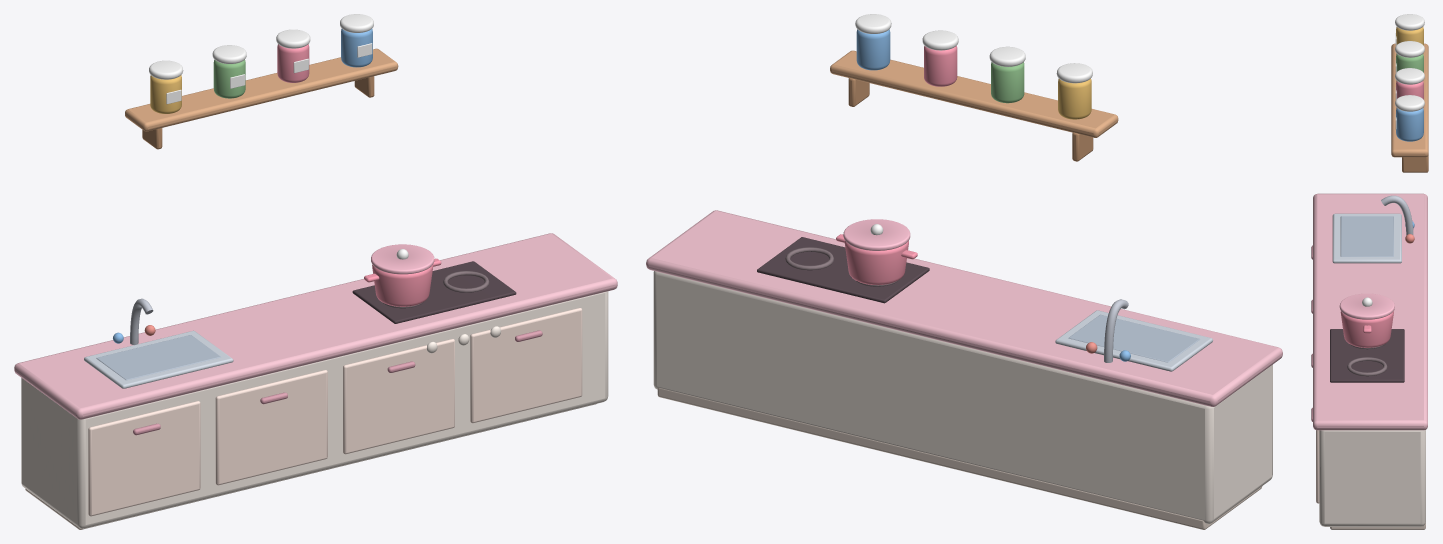
File: kitchen.glb
3 views of the same model, side by side, from view 1: azimuth 30°, elevation 25°; view 2: azimuth 150°, elevation 25°; view 3: azimuth 270°, elevation 25° (orthographic). The views are drawn at different scales.
Parts seen in each view (by area): view 1: cffeae2, worktop, cfff6ef, shelf, hob, cffffff, sink, cff9fb5, sink_rim, lid, c8fc1f0, jar_1 (+2 smaller); view 2: cfff6ef, worktop, shelf, kick, hob, cff9fb5, sink, cffffff, sink_rim, lid, c8fc1f0, jar_1 (+2 smaller); view 3: worktop, cfff6ef, hob, sink, cffffff, cff9fb5, shelf, sink_rim, lid, c8fc1f0, faucet, cc99a74 (+5 smaller).
Part boxes in pixels (x1,y1,x2,y2): cffeae2: (88,307,582,516); worktop: (14,233,617,419); cfff6ef: (21,291,608,528); shelf: (125,48,398,131); hob: (352,261,516,323); cffffff: (149,14,408,259); sink: (96,335,220,380); cff9fb5: (277,44,441,306); sink_rim: (84,330,233,388); lid: (371,244,434,274); c8fc1f0: (113,28,372,343); jar_1: (213,59,245,98); cfff6ef: (653,271,1272,523); worktop: (646,210,1282,406); shelf: (830,50,1118,137); kick: (657,388,1262,529); hob: (757,237,929,303); cff9fb5: (836,46,957,285); sink: (1068,314,1199,362); cffffff: (855,14,1092,235); sink_rim: (1055,310,1212,371); lid: (843,219,910,250); c8fc1f0: (856,29,1130,361); jar_1: (991,62,1024,103); worktop: (1313,193,1427,430); cfff6ef: (1319,430,1425,526); hob: (1330,329,1404,382); sink: (1340,216,1393,256); cffffff: (1362,14,1424,306); cff9fb5: (1340,81,1423,347); shelf: (1391,43,1428,157); sink_rim: (1332,213,1401,263); lid: (1339,293,1394,319); c8fc1f0: (1396,108,1423,228); faucet: (1381,195,1413,235); cc99a74: (1402,155,1428,172).
Size of the model in its own units: 5.1 by 3.59 by 1.1.
